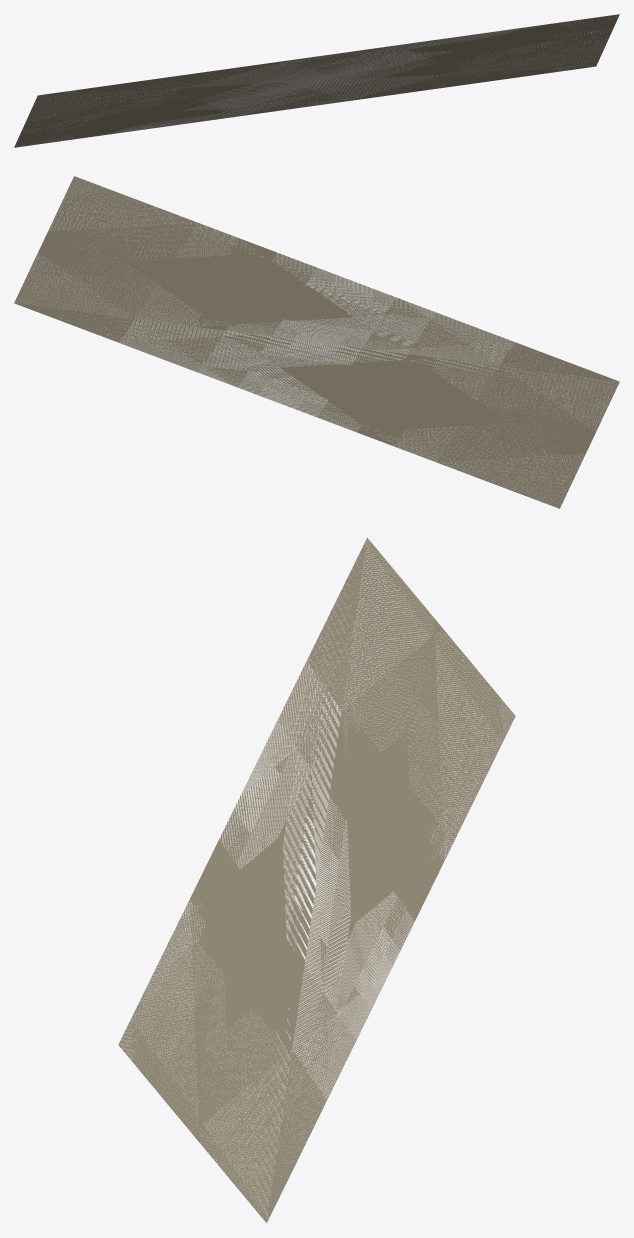
Rendered from 大本钟28.dae.
3 views of the same model, one above another, from view 1: azimuth 30°, elevation 25°; view 2: azimuth 150°, elevation 25°; view 3: azimuth 270°, elevation 25° (orthographic). The views are drawn at different scales.
Visible parts, largest first — view 1: SketchUp; view 2: SketchUp; view 3: SketchUp.
Part boxes in pixels (left/top/right/bottom): SketchUp: left=14, top=14, right=619, bottom=147; SketchUp: left=14, top=176, right=619, bottom=508; SketchUp: left=118, top=537, right=515, bottom=1223.
Bounding box in the file's own units: 40.12 × 12.95 × 5.95.
